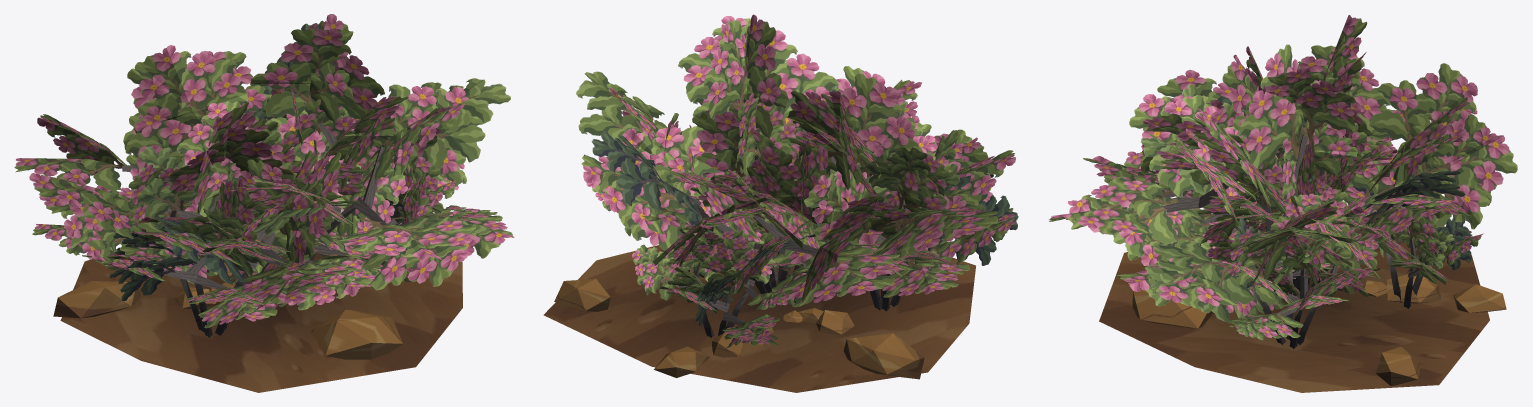
Rendered from esteva.glb.
3 views of the same model, side by side, from view 1: azimuth 30°, elevation 25°; view 2: azimuth 150°, elevation 25°; view 3: azimuth 270°, elevation 25° (orthographic). The views are drawn at different scales.
Visible parts, largest first — view 1: Esteva3_Larga_Florida, Esteva4_Grupo_Florida, Esteva2_Media_Florida, Esteva3_Larga_Verao; view 2: Esteva4_Grupo_Florida, Esteva3_Larga_Florida, Esteva2_Media_Florida, Esteva1_Pequena_Florida, Esteva3_Larga_Verao; view 3: Esteva3_Larga_Florida, Esteva4_Grupo_Florida, Esteva2_Media_Florida, Esteva1_Pequena_Florida, Esteva3_Larga_Verao.
Boxes of the visible parts, x1,y1,x2,y2 form: Esteva3_Larga_Florida: (14,14,514,316); Esteva4_Grupo_Florida: (32,101,497,392); Esteva2_Media_Florida: (117,86,412,308); Esteva3_Larga_Verao: (15,23,504,303); Esteva4_Grupo_Florida: (543,95,1018,392); Esteva3_Larga_Florida: (576,14,1015,357); Esteva2_Media_Florida: (642,93,949,336); Esteva1_Pequena_Florida: (705,169,879,322); Esteva3_Larga_Verao: (579,18,1014,304); Esteva3_Larga_Florida: (1049,15,1517,323); Esteva4_Grupo_Florida: (1099,84,1506,392); Esteva2_Media_Florida: (1125,80,1451,318); Esteva1_Pequena_Florida: (1233,159,1376,313); Esteva3_Larga_Verao: (1050,18,1512,308).
Bounding box in the file's own units: 2.38 × 1.43 × 2.25.
Materials: 2 (2 with a texture image).
